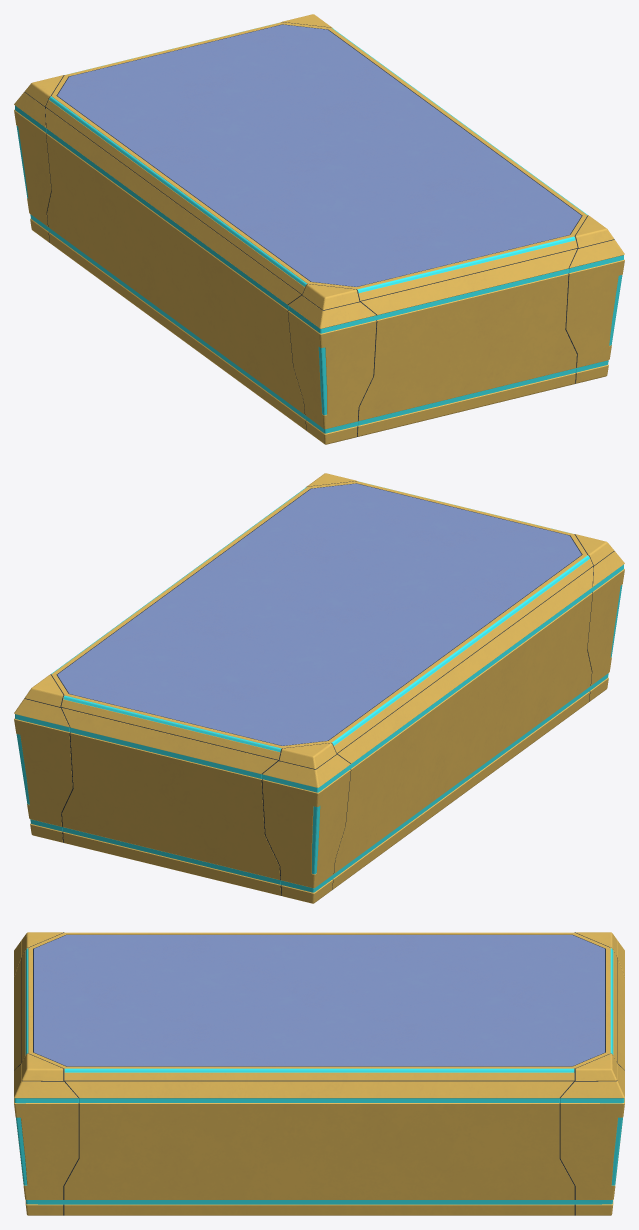
File: PlatformG.fbx
3 renders of one model, top to bottom at view 1: azimuth 30°, elevation 25°; view 2: azimuth 150°, elevation 25°; view 3: azimuth 270°, elevation 25°, orthographic.
Parts seen in each view (by area): view 1: SM_VA_PlatformG.mo; view 2: SM_VA_PlatformG.mo; view 3: SM_VA_PlatformG.mo.
Boxes of the visible parts, <box> form: SM_VA_PlatformG.mo: <box>14,14,624,444</box>; SM_VA_PlatformG.mo: <box>14,473,624,903</box>; SM_VA_PlatformG.mo: <box>14,932,624,1215</box>.
Size of the model in its own units: 27 by 12.5 by 47.05.
